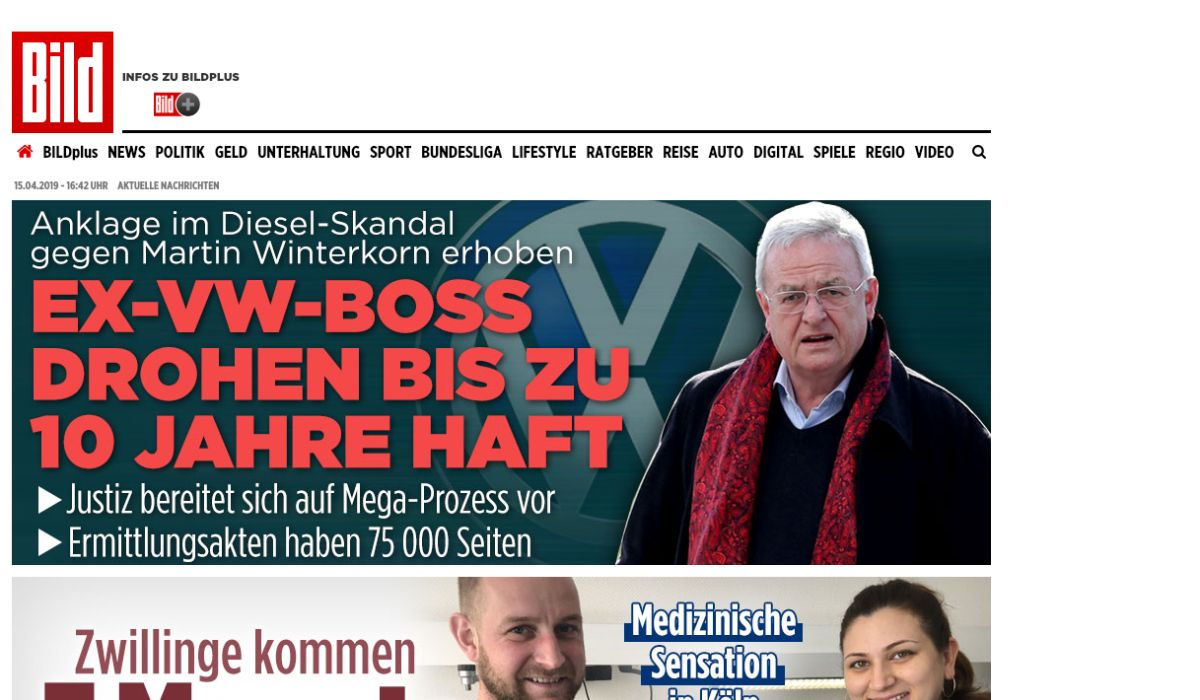menu: (1, 139, 1007, 172)
menu-button: (258, 143, 366, 163), (423, 143, 512, 162), (591, 143, 665, 162), (516, 143, 588, 162), (39, 143, 101, 164), (154, 143, 210, 164), (762, 143, 816, 162), (105, 143, 150, 164), (822, 143, 871, 162), (372, 143, 418, 163), (874, 143, 920, 163), (924, 143, 970, 163), (214, 143, 253, 164), (715, 143, 757, 162), (670, 144, 710, 161), (13, 143, 38, 164), (982, 144, 1004, 163)
